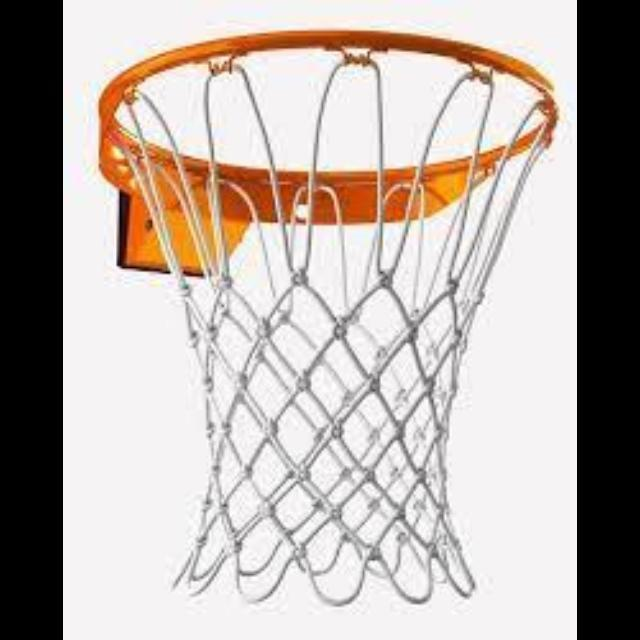rim: (99, 29, 557, 599)
